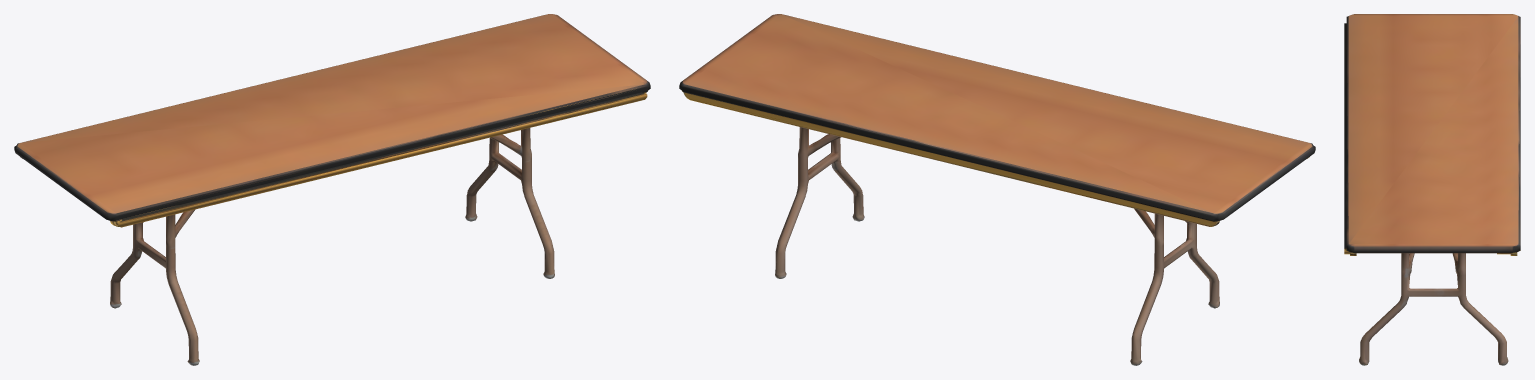
Rendered from 8ft_folding_table_wo_0125200422_texture.glb.
3 renders of one model, left to right at view 1: azimuth 30°, elevation 25°; view 2: azimuth 150°, elevation 25°; view 3: azimuth 270°, elevation 25°, orthographic. The views are drawn at different scales.
Visible parts, largest first — view 1: Mesh_0; view 2: Mesh_0; view 3: Mesh_0.
Boxes of the visible parts, x1,y1,x2,y2 form: Mesh_0: [14, 14, 650, 365]; Mesh_0: [679, 14, 1315, 365]; Mesh_0: [1344, 14, 1520, 365].
Size of the model in its own units: 2.41 by 0.762 by 0.7669.
Materials: 1 (1 with a texture image).
